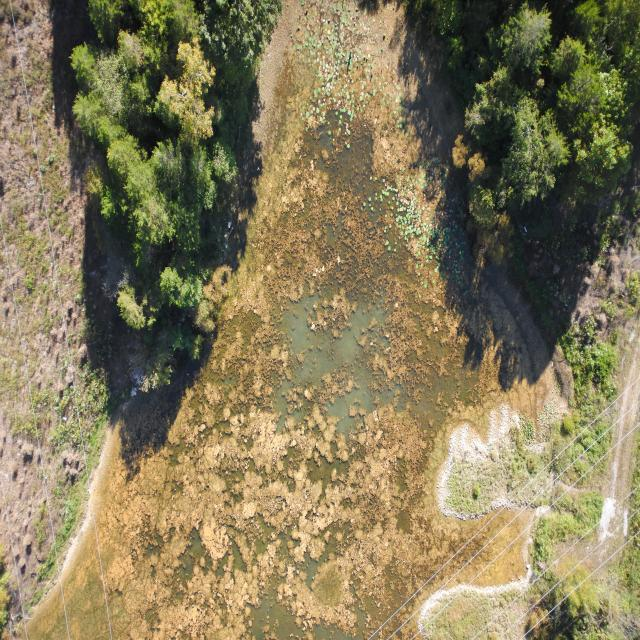Area of Interest: (78, 10, 262, 312), (433, 22, 624, 196)
